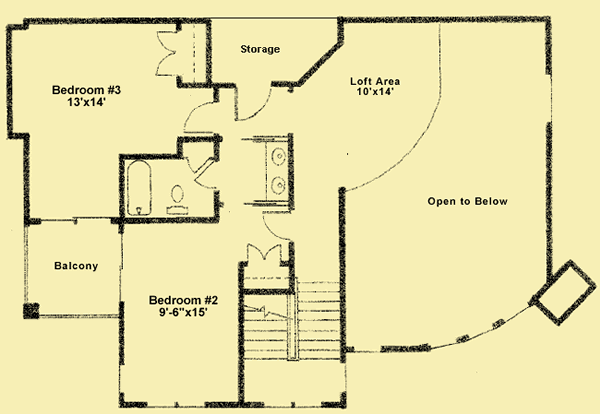door: (230, 79, 272, 124), (152, 27, 183, 78), (183, 99, 220, 136), (261, 208, 293, 239), (243, 243, 283, 266), (178, 152, 212, 176)
large_sink: (160, 180, 190, 217)
small_sink: (265, 139, 291, 201)
stairs: (242, 279, 343, 367)
tub: (125, 158, 157, 220)
